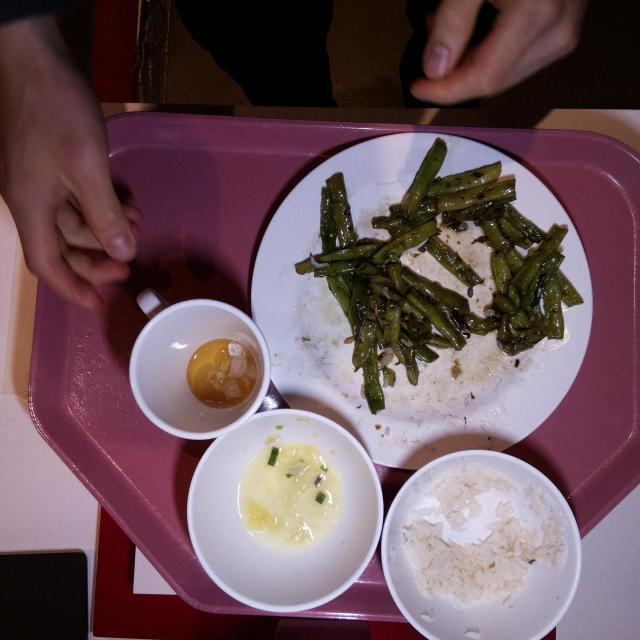Rice: (422, 471, 530, 601)
Vegetable: (322, 175, 566, 352)
